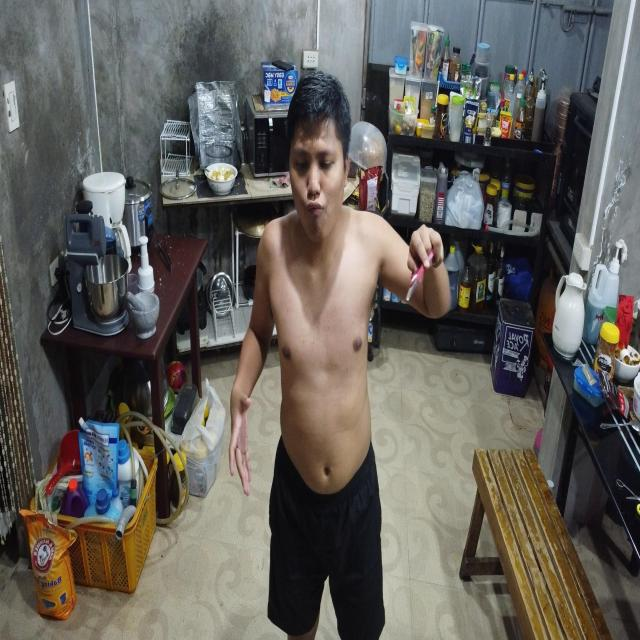scissor: (405, 252, 434, 302)
